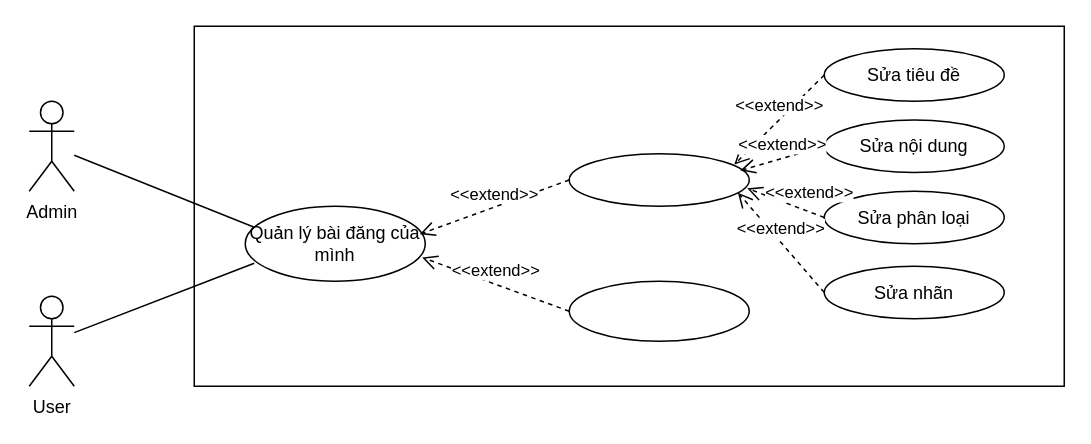
Image size: 1091x444. Some labels were removed from this diagram. Here are the shapes that lost their labels. From the top down, the centre of each, then its label:
the point at 658,179: Sửa bài đăng
the point at 658,310: Xóa bài đăng
